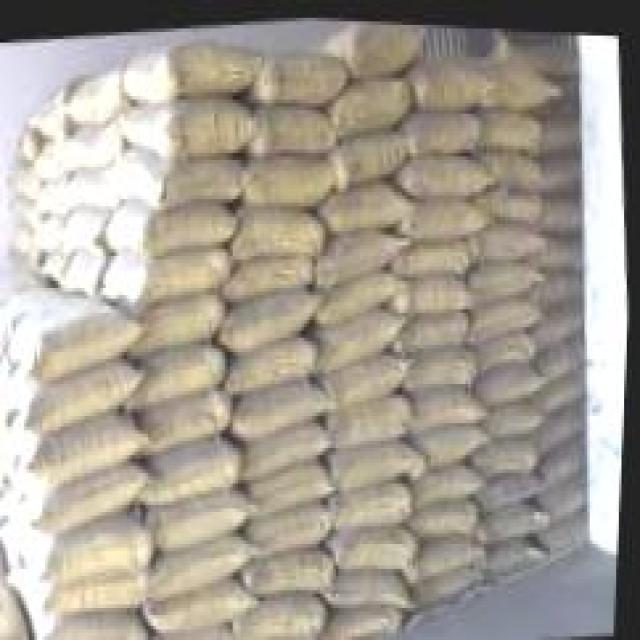gunny_bag: (10, 288, 139, 374), (26, 416, 137, 492), (142, 525, 252, 601), (21, 570, 140, 640), (34, 360, 140, 434), (108, 242, 227, 302), (128, 36, 248, 95), (117, 146, 238, 202), (148, 437, 239, 509), (112, 205, 233, 259), (45, 520, 146, 583), (131, 348, 227, 405), (235, 382, 331, 437), (249, 464, 338, 522), (234, 285, 314, 348), (332, 125, 408, 190), (316, 263, 398, 323), (159, 97, 243, 154), (249, 546, 335, 600), (334, 434, 418, 489), (325, 349, 406, 406), (332, 73, 410, 132), (233, 335, 311, 391), (403, 147, 490, 197), (325, 185, 405, 236), (246, 425, 326, 475), (138, 299, 214, 351), (332, 519, 415, 565), (255, 106, 328, 155), (240, 210, 316, 256), (250, 156, 325, 200), (406, 346, 477, 390), (427, 417, 488, 467), (469, 257, 533, 304), (57, 121, 123, 166), (478, 323, 535, 374), (266, 51, 340, 88), (411, 199, 484, 234), (487, 105, 541, 150), (416, 61, 479, 98), (58, 168, 108, 214), (417, 499, 481, 533), (399, 236, 460, 269), (482, 472, 530, 506), (486, 400, 536, 431), (165, 631, 232, 640)
